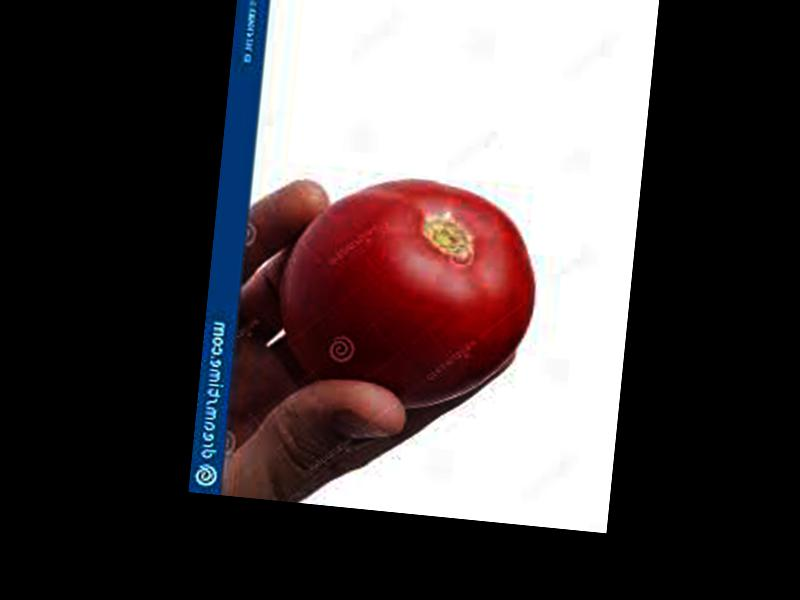Tomato: (270, 168, 544, 420)
